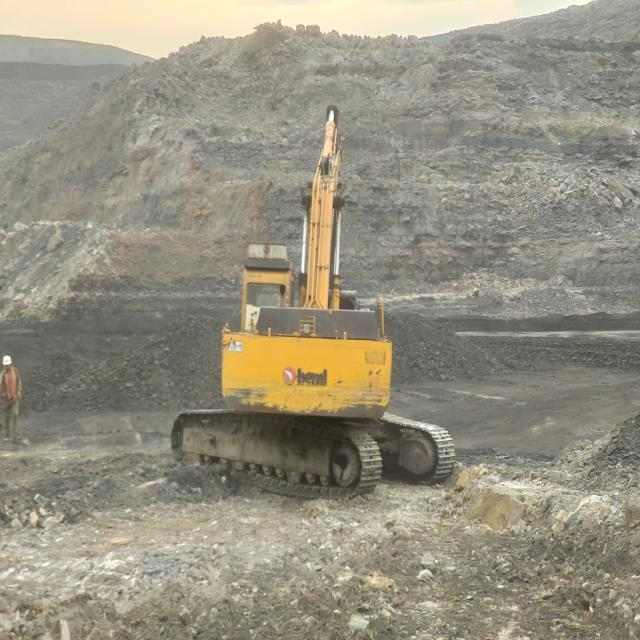excavator: (170, 110, 456, 491)
